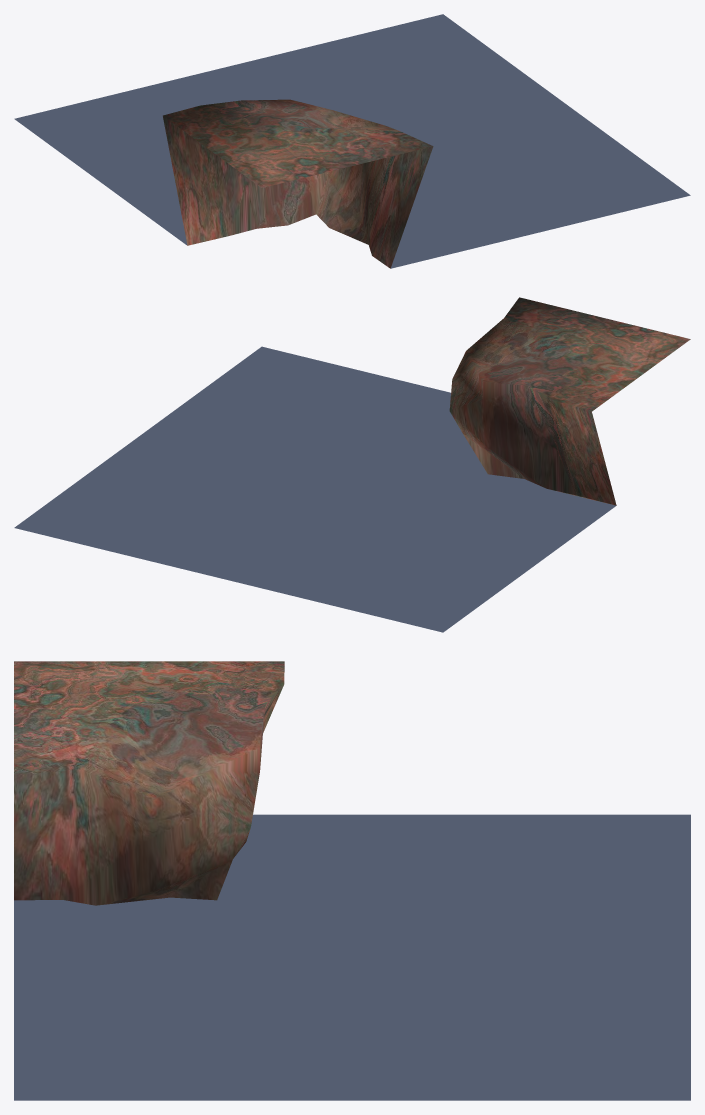
The model's file is cave_water_convex2.glb.
The picture shows the model from 3 angles, top to bottom: view 1: azimuth 30°, elevation 25°; view 2: azimuth 150°, elevation 25°; view 3: azimuth 270°, elevation 25°; orthographic projection. The views are drawn at different scales.
Visible parts, largest first — view 1: water_convex2-col; view 2: water_convex2-col; view 3: water_convex2-col.
Part boxes in pixels (box(x1,y1,x2,y2)): water_convex2-col: box(14, 14, 690, 268); water_convex2-col: box(14, 297, 690, 632); water_convex2-col: box(14, 661, 690, 1100).
Bounding box in the file's own units: 2 × 0.5256 × 2.
2 materials, 1 textured.
